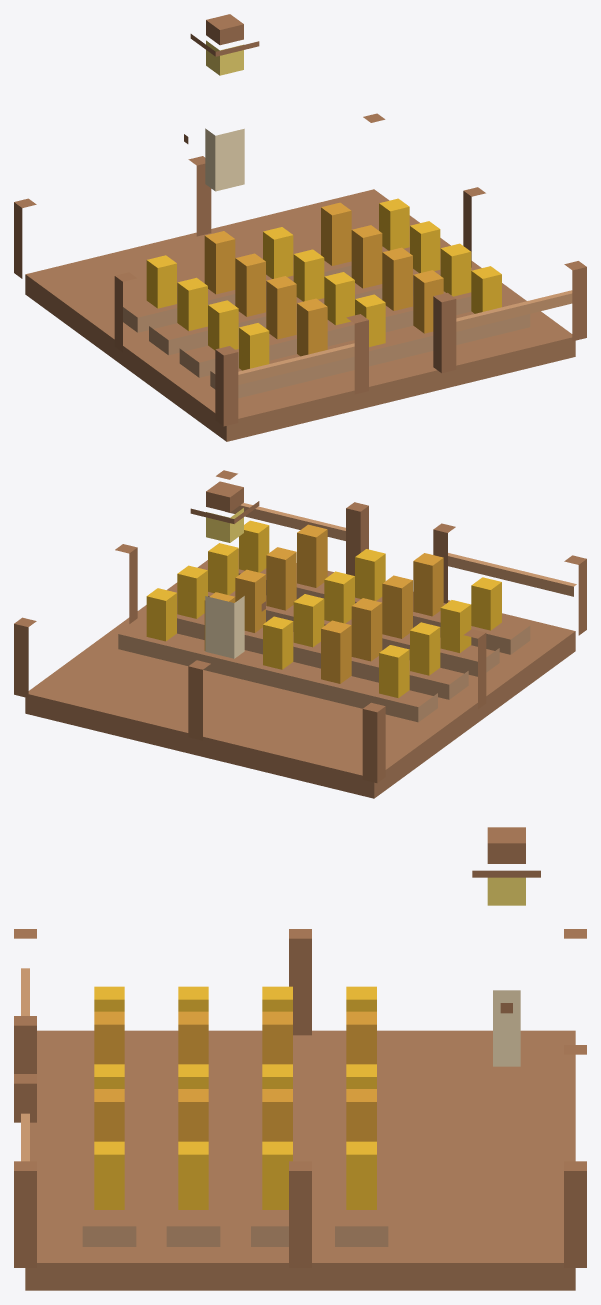
The model's file is field_t2_v1.glb.
3 renders of one model, top to bottom at view 1: azimuth 30°, elevation 25°; view 2: azimuth 150°, elevation 25°; view 3: azimuth 270°, elevation 25°, orthographic. The views are drawn at different scales.
Visible parts, largest first — view 1: field_t2_v1; view 2: field_t2_v1; view 3: field_t2_v1.
Part boxes in pixels (x1,y1,x2,y2): field_t2_v1: (14,14,586,441); field_t2_v1: (14,470,586,798); field_t2_v1: (14,827,586,1290).
Bounding box in the file's own units: 0.75 × 0.49 × 0.75.
Materials: 1 (1 with a texture image).
